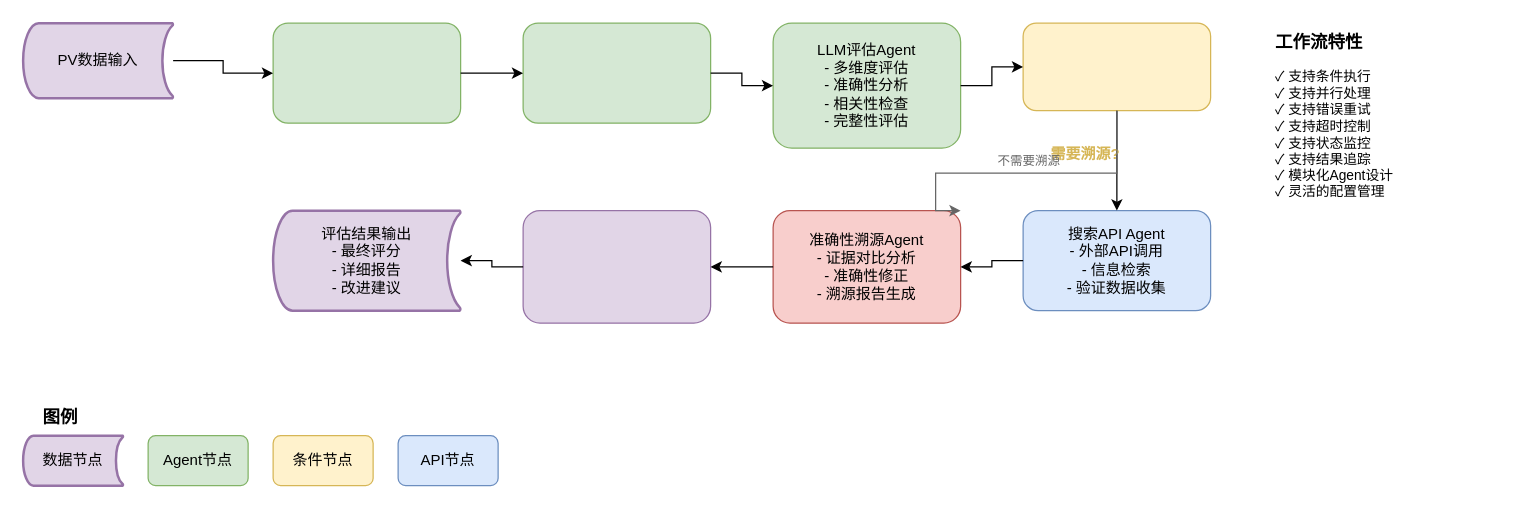
Some shapes in this 1519 by 508 pixel diagram are drawn without their labels. The centre of each missing label's shape, as x and y in pixels:
Query评估Agent - 溯源需求判断 - 阈值检查: point (1116, 66)
意图识别Agent - 行为模式分析 - 用户意图提取 - 置信度评估: point (616, 72)
数据预处理Agent - PV数据清洗 - Session行为改写 - 图片解析: point (366, 72)
最终打分Agent - 综合评分计算 - 权重分配 - 评估报告生成: point (616, 266)
